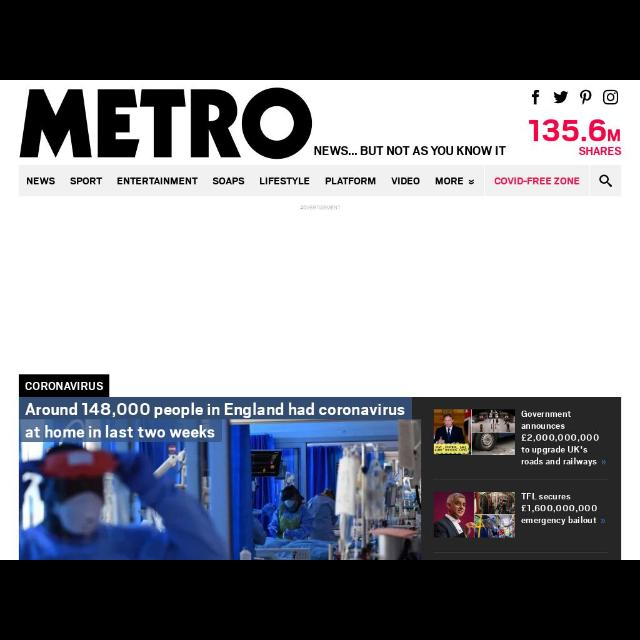icon: (597, 174, 617, 192), (578, 89, 594, 111), (603, 90, 619, 106), (528, 90, 542, 108), (552, 91, 568, 105), (470, 178, 474, 186)
iframe: (19, 198, 639, 372)
image: (21, 400, 425, 558), (434, 408, 516, 457), (432, 492, 514, 538)
spinner: (432, 174, 478, 190)
text: (22, 82, 314, 158), (23, 403, 410, 433), (522, 409, 602, 467), (530, 116, 624, 146), (521, 491, 599, 523), (314, 145, 510, 157), (114, 174, 198, 186), (24, 382, 104, 392), (326, 176, 376, 190), (496, 177, 580, 185), (259, 176, 313, 188), (299, 203, 343, 213), (70, 175, 102, 188), (579, 148, 623, 156), (213, 177, 247, 186), (391, 176, 421, 186), (434, 178, 464, 186), (30, 177, 54, 186)
toolbar: (20, 165, 624, 195)
